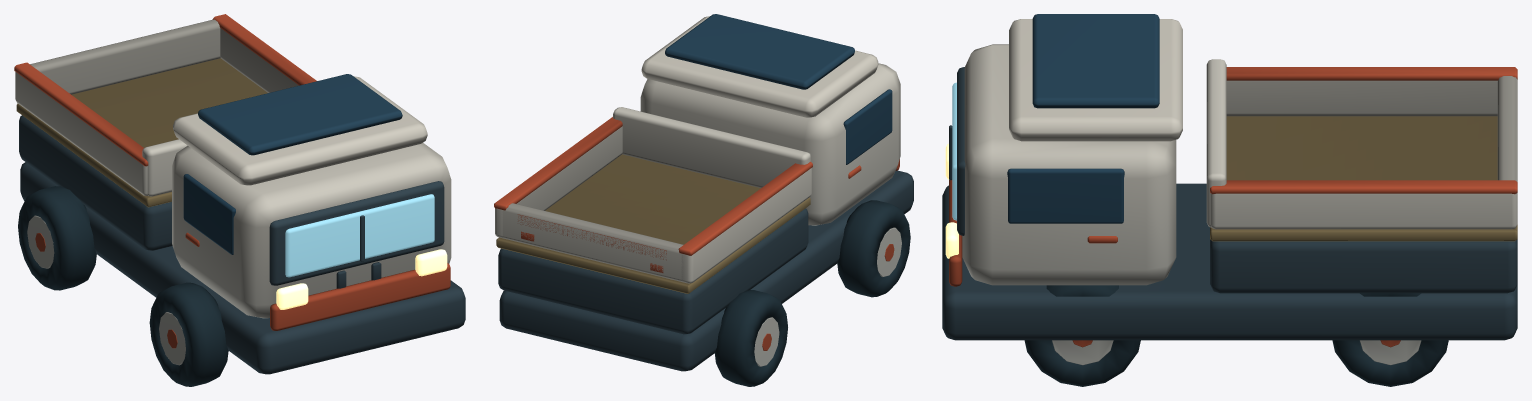
The model's file is truck.glb.
The picture shows the model from 3 angles, left to right: view 1: azimuth 30°, elevation 25°; view 2: azimuth 150°, elevation 25°; view 3: azimuth 270°, elevation 25°; orthographic projection. The views are drawn at different scales.
Visible parts, largest first — view 1: Truck_ceramic_cab, Truck_chassis, Truck_bed_floor, Truck_solar_roof, Truck_roof_frame, Truck_front_glass, Truck_tailgate, Truck_bed_support, Truck_tyre, Truck_tyre.001, Truck_front_bumper, Truck_windshield_frame (+10 smaller); view 2: Truck_ceramic_cab, Truck_bed_floor, Truck_chassis, Truck_bed_support, Truck_solar_roof, Truck_bed_headboard, Truck_roof_frame, Truck_tailgate, Truck_tyre, Truck_tyre.001, Truck_bed_side, Truck_bed_side.001 (+6 smaller); view 3: Truck_chassis, Truck_ceramic_cab, Truck_bed_floor, Truck_bed_support, Truck_solar_roof, Truck_bed_side.001, Truck_bed_side, Truck_roof_frame, Truck_side_window.001, Truck_bed_rail.001, Truck_bed_rail, Truck_tyre.002 (+8 smaller).
Part boxes in pixels (left/top/right/bottom): Truck_ceramic_cab: left=172, top=143, right=451, bottom=318; Truck_chassis: left=20, top=162, right=465, bottom=374; Truck_bed_floor: left=16, top=58, right=267, bottom=207; Truck_solar_roof: left=198, top=74, right=402, bottom=155; Truck_roof_frame: left=173, top=76, right=427, bottom=185; Truck_front_glass: left=285, top=194, right=434, bottom=277; Truck_tailgate: left=30, top=19, right=220, bottom=94; Truck_bed_support: left=19, top=115, right=172, bottom=250; Truck_tyre: left=149, top=282, right=228, bottom=386; Truck_tyre.001: left=18, top=186, right=96, bottom=290; Truck_front_bumper: left=270, top=263, right=450, bottom=330; Truck_windshield_frame: left=269, top=181, right=444, bottom=285; Truck_ceramic_cab: left=640, top=63, right=900, bottom=225; Truck_bed_floor: left=496, top=154, right=810, bottom=293; Truck_chassis: left=499, top=170, right=913, bottom=371; Truck_bed_support: left=498, top=208, right=808, bottom=334; Truck_solar_roof: left=665, top=14, right=854, bottom=89; Truck_bed_headboard: left=613, top=107, right=810, bottom=187; Truck_roof_frame: left=641, top=16, right=878, bottom=117; Truck_tailgate: left=502, top=203, right=685, bottom=282; Truck_tyre: left=837, top=200, right=910, bottom=297; Truck_tyre.001: left=714, top=290, right=787, bottom=386; Truck_bed_side: left=681, top=168, right=811, bottom=283; Truck_bed_side.001: left=495, top=126, right=622, bottom=238; Truck_chassis: left=942, top=183, right=1517, bottom=340; Truck_ceramic_cab: left=962, top=44, right=1176, bottom=285; Truck_bed_floor: left=1210, top=116, right=1517, bottom=241; Truck_bed_support: left=1210, top=239, right=1517, bottom=293; Truck_solar_roof: left=1032, top=14, right=1159, bottom=108; Truck_bed_side.001: left=1210, top=193, right=1517, bottom=229; Truck_bed_side: left=1226, top=80, right=1497, bottom=116; Truck_roof_frame: left=1009, top=19, right=1182, bottom=141; Truck_side_window.001: left=1007, top=168, right=1124, bottom=223; Truck_bed_rail.001: left=1210, top=180, right=1517, bottom=194; Truck_bed_rail: left=1226, top=67, right=1517, bottom=80; Truck_tyre.002: left=1024, top=285, right=1140, bottom=386.
Size of the model in its own units: 0.485 by 0.46 by 0.86.
